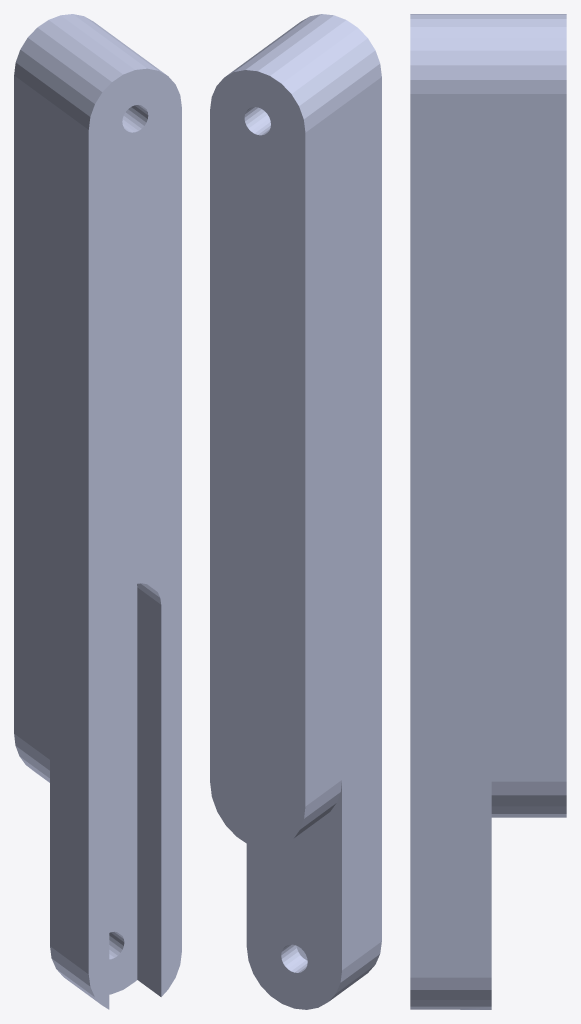
Rendered from outer_pitch_front.obj.
3 views of the same model, side by side, from view 1: azimuth 30°, elevation 25°; view 2: azimuth 150°, elevation 25°; view 3: azimuth 270°, elevation 25° (orthographic). The views are drawn at different scales.
Parts seen in each view (by area): view 1: ActorShape0_0-Mesh; view 2: ActorShape0_0-Mesh; view 3: ActorShape0_0-Mesh.
Part boxes in pixels (box(x1,y1,x2,y2)): ActorShape0_0-Mesh: box(14, 14, 181, 1009); ActorShape0_0-Mesh: box(210, 14, 381, 1009); ActorShape0_0-Mesh: box(410, 14, 566, 1009).
Size of the model in its own units: 0.018 by 0.1739 by 0.025.
